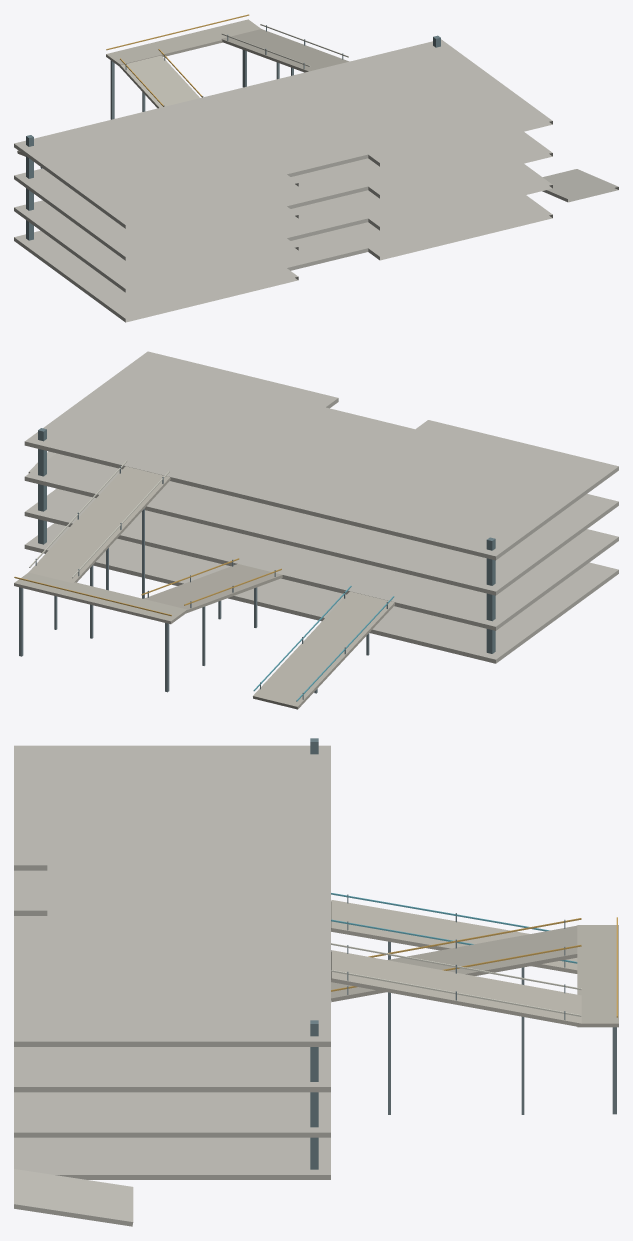
The model's file is urban-0-1.glb.
3 views of the same model, one above another, from view 1: azimuth 30°, elevation 25°; view 2: azimuth 150°, elevation 25°; view 3: azimuth 270°, elevation 25° (orthographic). The views are drawn at different scales.
Parts seen in each view (by area): view 1: urban-0-1; view 2: urban-0-1; view 3: urban-0-1.
Boxes of the visible parts, x1,y1,x2,y2 form: urban-0-1: [14, 14, 618, 322]; urban-0-1: [14, 351, 618, 709]; urban-0-1: [14, 738, 618, 1226].
Size of the model in its own units: 97 by 20.04 by 72.5.
